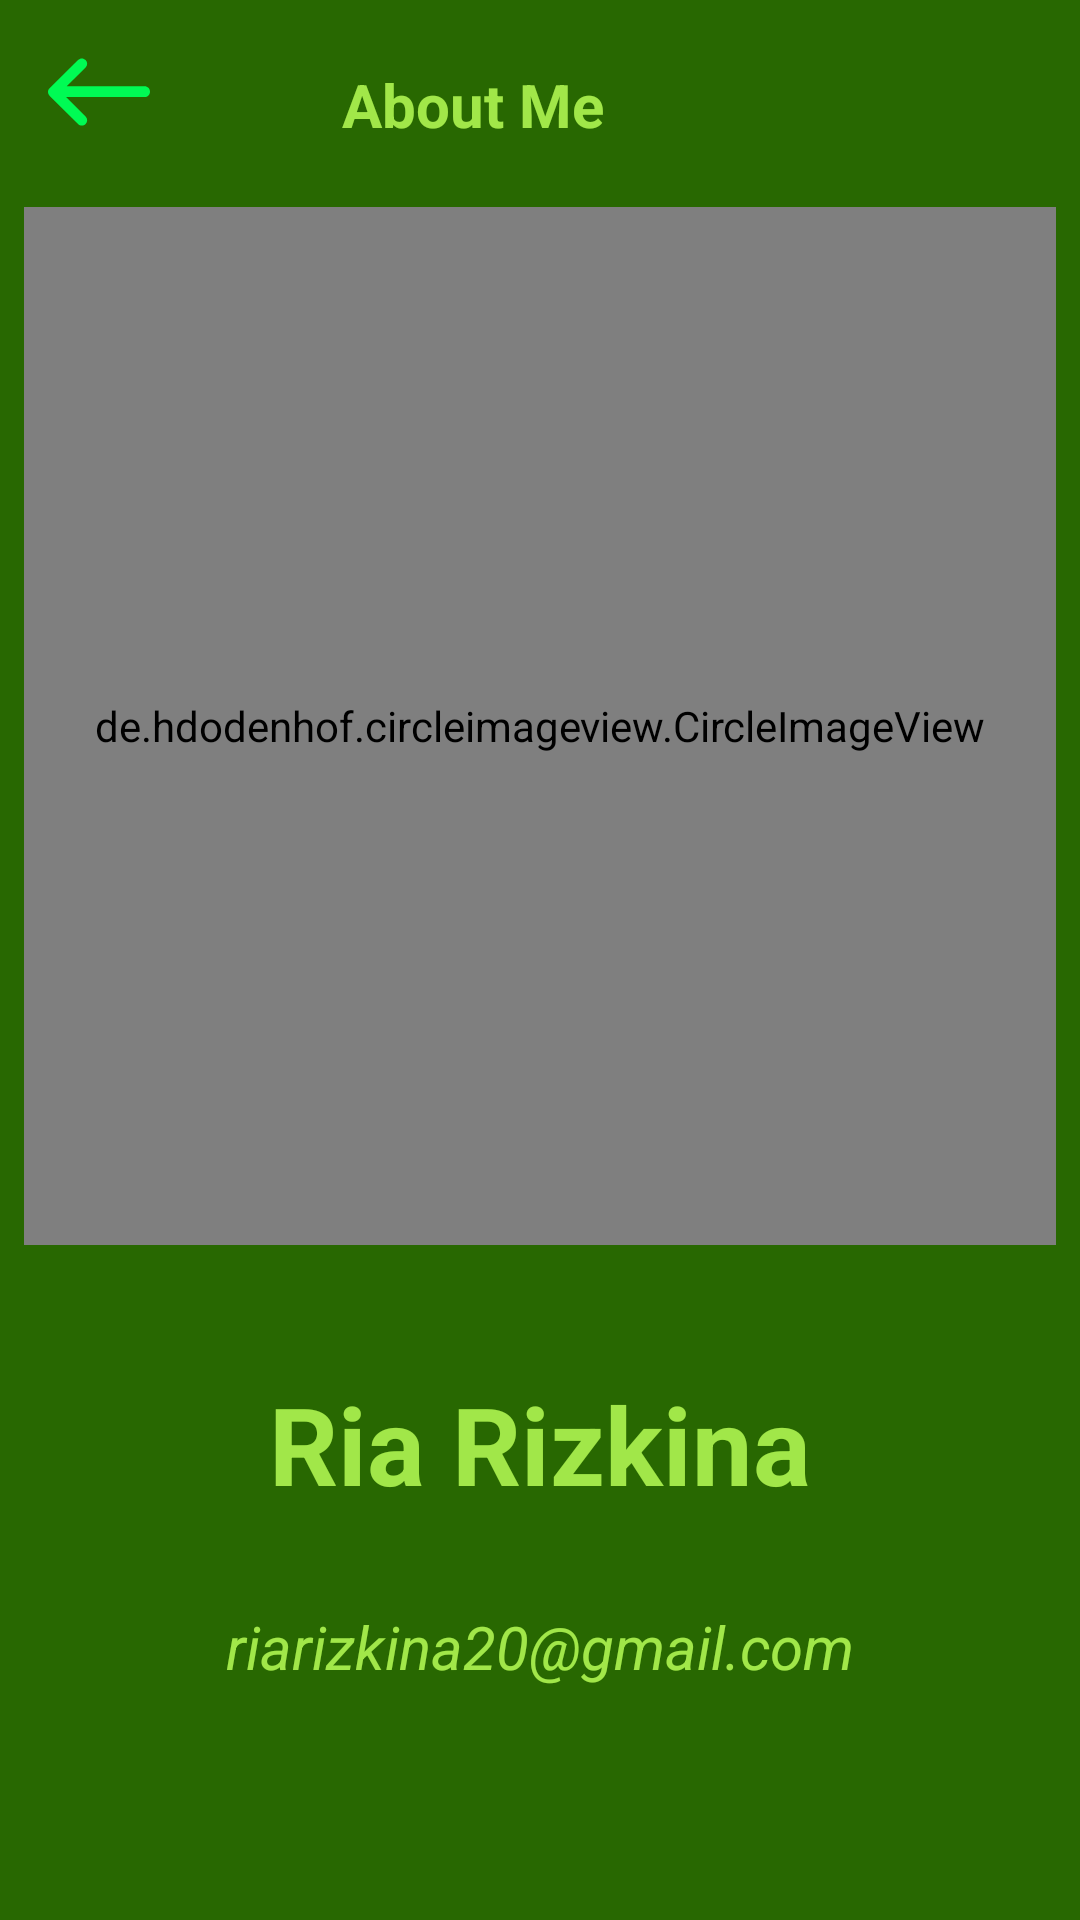

Point at icon controls on the screen. Image size 1080px x 1920px, points as (x,y).
left arrow: (99,92)
